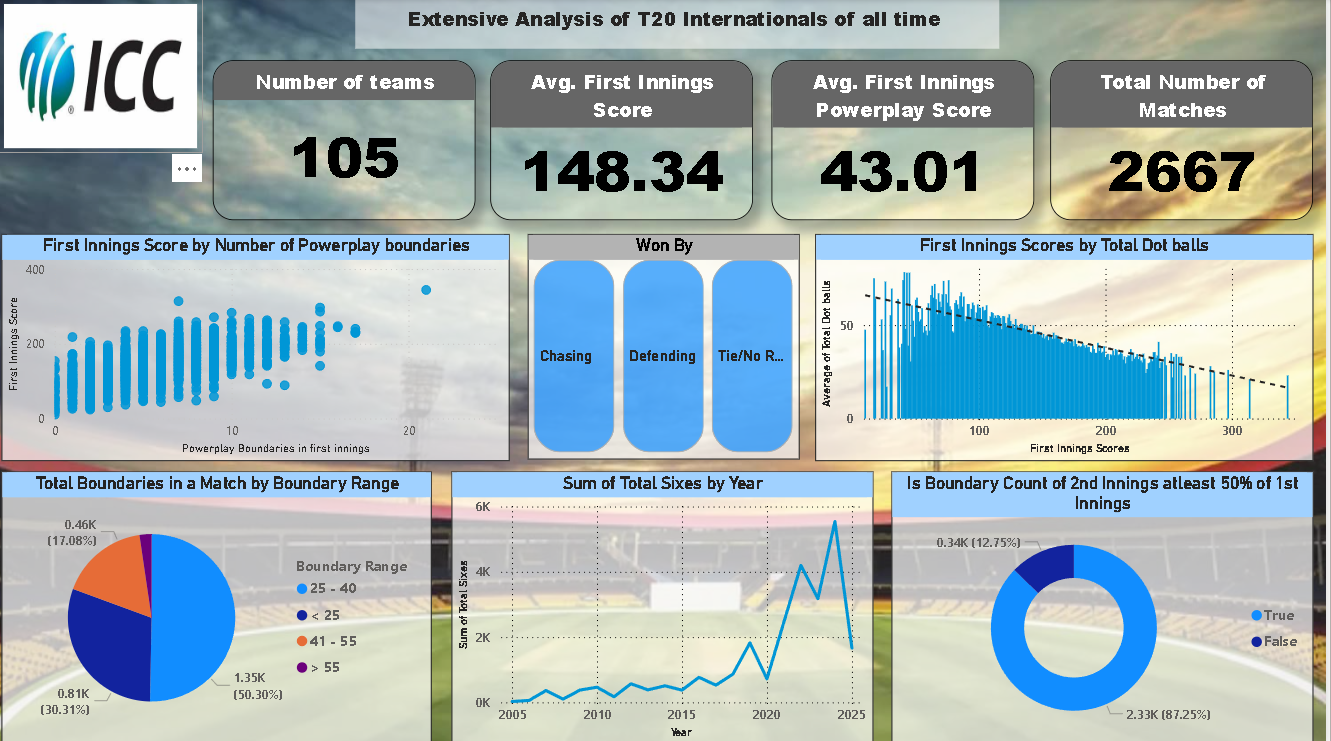

The page's visual inventory and layout, read from the dashboard file:
{"tool":"powerbi","page":{"name":"T20I Analysis","canvas":[1280,720],"ordinal":0},"visuals":[{"type":"card","title":"Avg. First Innings Score","fields":{"Values":["t20_international_matches.Average First Innings Score"]},"box":[474.7,59.2,253.9,154.4],"z":0},{"type":"card","title":"Avg. First Innings Powerplay Score","fields":{"Values":["t20_international_matches.Avg. 1st Innings Powerplay Score"]},"box":[745.9,59.2,253.9,154.4],"z":1000},{"type":"card","title":"Total Number of Matches","fields":{"Values":["t20_international_matches.Number of Matches"]},"box":[1014.3,59.2,253.9,154.4],"z":2000},{"type":"textbox","box":[343.4,0,621.8,47.6],"z":3000},{"type":"image","box":[0,0,196.2,148.6],"z":4000},{"type":"lineChart","fields":{"Category":["t20_international_matches.Year"],"Y":["Sum(t20_international_matches.Total Sixes)"]},"box":[437.2,455.9,406.9,264],"z":5000},{"type":"pieChart","title":"Total Boundaries in a Match by Boundary Range","fields":{"Category":["t20_international_matches.Total Boundary Range"],"Y":["CountNonNull(t20_international_matches.Total Boundaries)"]},"box":[2.9,455.9,415.5,264],"z":6000},{"type":"card","title":"Number of teams","fields":{"Values":["t20_international_matches.No of Teams"]},"box":[206.3,59.2,253.9,154.4],"z":7000},{"type":"clusteredColumnChart","title":"First Innings Scores by Total Dot balls ","fields":{"Y":["Avg(t20_international_matches.innings_1_total_dot_balls)"],"Category":["t20_international_matches.innings_1_runs"]},"box":[787.7,226.5,480.4,219.3],"z":8000},{"type":"scatterChart","title":"First Innings Score by Number of Powerplay boundaries","fields":{"X":["t20_international_matches.innings_1_powerplay_boundaries"],"Y":["t20_international_matches.innings_1_runs"]},"box":[2.9,226.5,490.5,219.3],"z":9000},{"type":"advancedSlicerVisual","title":"Won By","fields":{"Values":["t20_international_matches.won_by"]},"box":[510.7,226.5,262.6,217.9],"z":10000},{"type":"donutChart","title":"Is Boundary Count of 2nd Innings atleast 50% of 1st Innings","fields":{"Category":["t20_international_matches.IsBoundary_50%_of_Innings_1"],"Y":["CountNonNull(t20_international_matches.match_id)"]},"box":[861.3,455.9,406.9,264],"z":11000}]}

Visuals, with their boxes in screenshot pixels (x1, y1, x2, y2), scaled from the page's 1280x720 canvas onto the 1331x741 screenshot:
"Avg. First Innings Score" card: x1=494 y1=61 x2=758 y2=220
"Avg. First Innings Powerplay Score" card: x1=776 y1=61 x2=1040 y2=220
"Total Number of Matches" card: x1=1055 y1=61 x2=1319 y2=220
textbox: x1=357 y1=0 x2=1004 y2=49
image: x1=0 y1=0 x2=204 y2=153
lineChart - t20_international_matches.Year x Sum(t20_international_matches.Total Sixes): x1=455 y1=469 x2=878 y2=740
"Total Boundaries in a Match by Boundary Range" pieChart: x1=3 y1=469 x2=435 y2=740
"Number of teams" card: x1=215 y1=61 x2=479 y2=220
"First Innings Scores by Total Dot balls " clusteredColumnChart: x1=819 y1=233 x2=1319 y2=459
"First Innings Score by Number of Powerplay boundaries" scatterChart: x1=3 y1=233 x2=513 y2=459
"Won By" advancedSlicerVisual: x1=531 y1=233 x2=804 y2=457
"Is Boundary Count of 2nd Innings atleast 50% of 1st Innings" donutChart: x1=896 y1=469 x2=1319 y2=740
